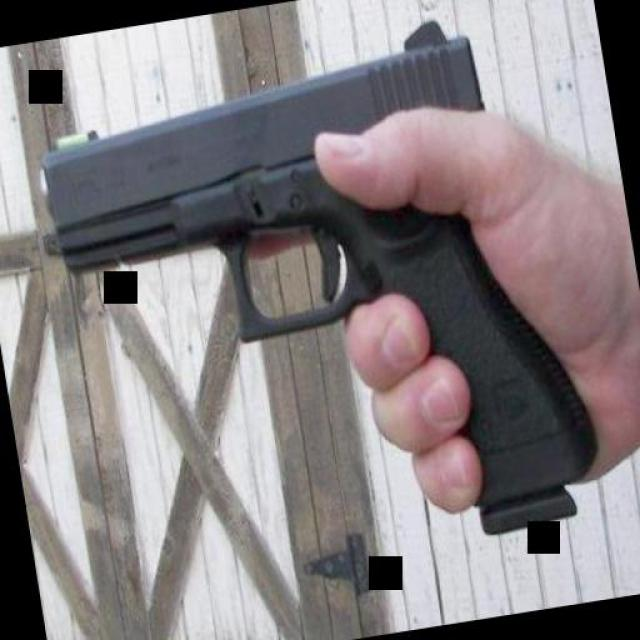gun: (10, 5, 602, 600)
